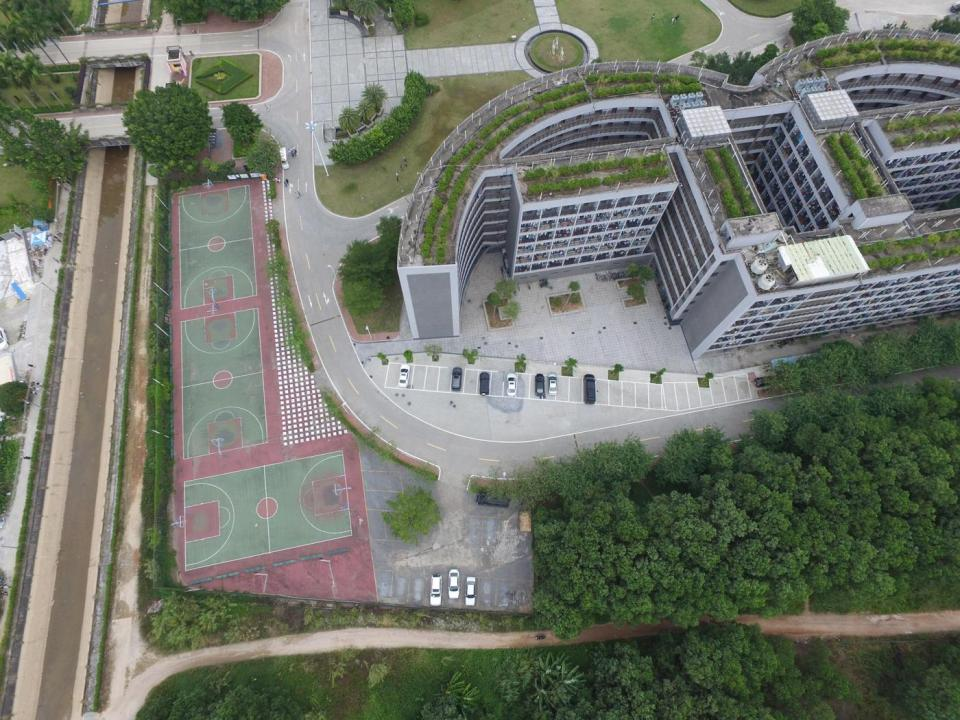car: (475, 492, 510, 507), (447, 568, 461, 600), (464, 575, 477, 606), (430, 573, 442, 606), (752, 376, 780, 388), (478, 371, 490, 396), (506, 372, 518, 397), (450, 366, 461, 392), (547, 371, 558, 396), (398, 363, 408, 389), (534, 374, 545, 396)
van: (582, 374, 598, 405)
